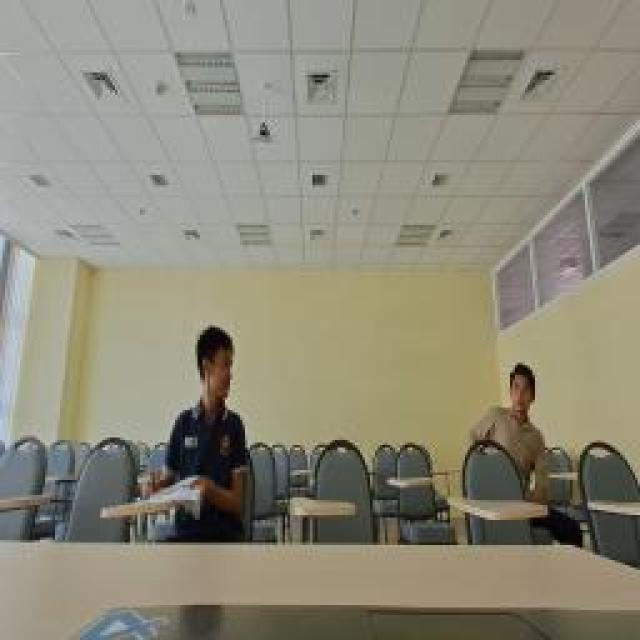study: (140, 322, 248, 538), (468, 348, 550, 502)
